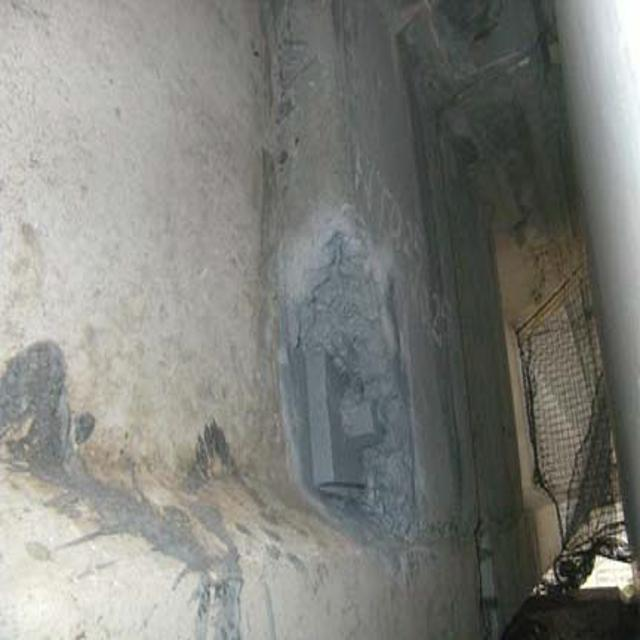spalling: (273, 211, 421, 540)
